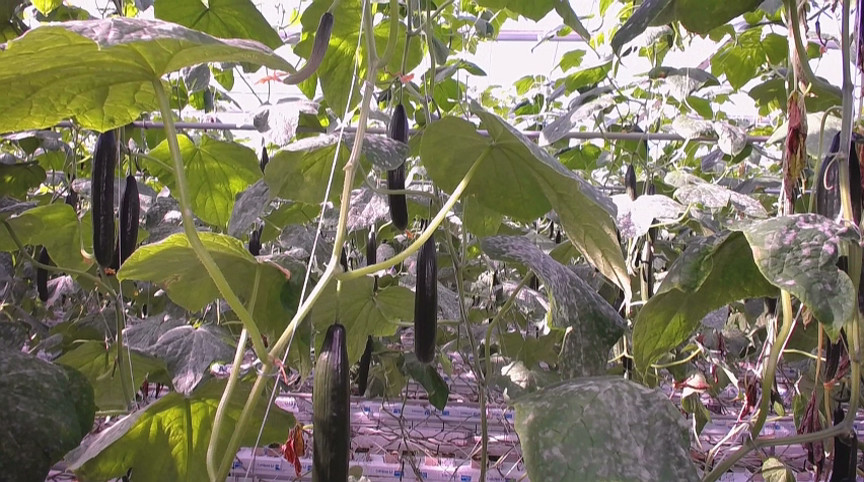cucumber: (312, 325, 350, 482), (91, 130, 119, 268), (283, 16, 333, 85), (415, 232, 440, 362), (386, 105, 408, 230), (116, 176, 142, 269)
